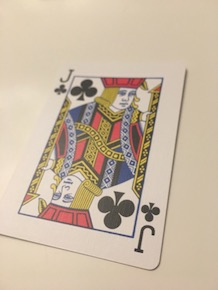JackOfClubs: (1, 56, 192, 273)
